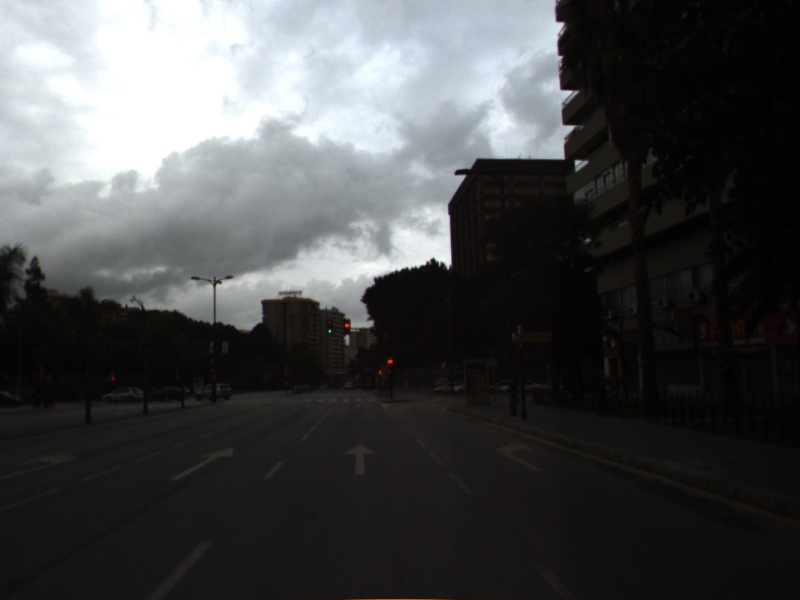LEFT: (1, 450, 80, 480)
RIGHT: (493, 438, 547, 473)
STRAIGHT: (167, 444, 236, 483), (340, 442, 379, 477)
